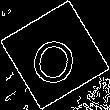O_N: (27, 25, 83, 85)
